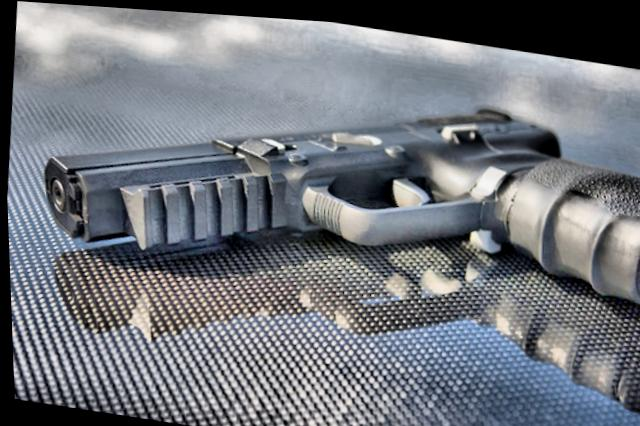pistol: (29, 31, 640, 371)
